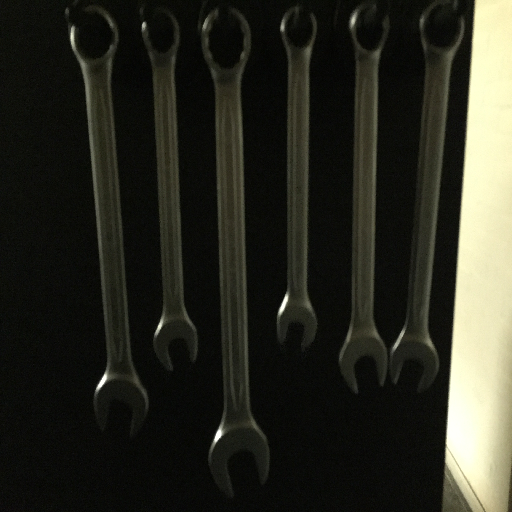bottom: (204, 427, 278, 500), (93, 376, 153, 442), (388, 330, 441, 400), (338, 337, 389, 396), (153, 319, 202, 371), (273, 299, 322, 351)
top: (197, 6, 253, 74), (63, 5, 124, 66), (416, 2, 467, 58), (343, 4, 394, 58), (274, 4, 321, 55), (136, 8, 183, 57)
